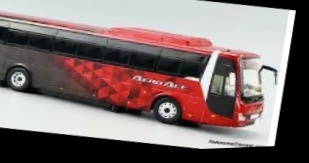bus: (0, 0, 276, 146)
